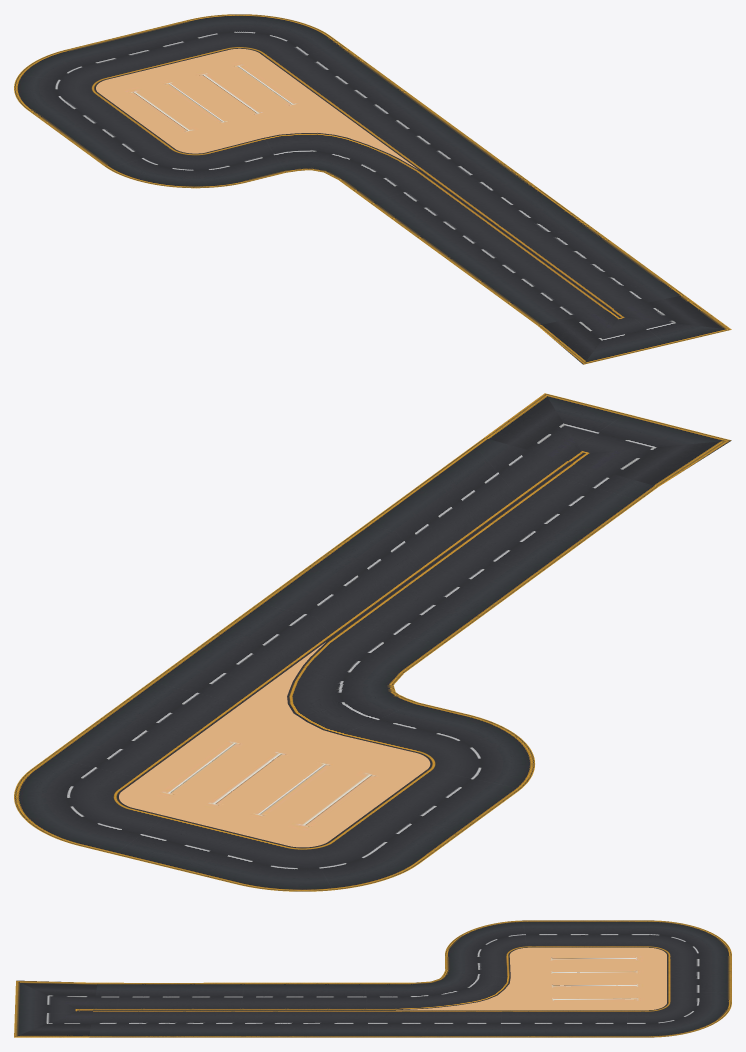
File: praking_area_level_new (1).FBX
3 renders of one model, top to bottom at view 1: azimuth 30°, elevation 25°; view 2: azimuth 150°, elevation 25°; view 3: azimuth 270°, elevation 25°, orthographic. The views are drawn at different scales.
Visible parts, largest first — view 1: full_road, parking, half_road; view 2: full_road, parking, half_road; view 3: full_road, parking, half_road.
Part boxes in pixels (x1=…): full_road: x1=14, y1=14, x2=731, y2=364; parking: x1=96, y1=48, x2=418, y2=169; half_road: x1=19, y1=14, x2=700, y2=312; full_road: x1=14, y1=393, x2=731, y2=891; parking: x1=119, y1=642, x2=430, y2=847; half_road: x1=19, y1=430, x2=525, y2=891; full_road: x1=14, y1=920, x2=731, y2=1037; parking: x1=396, y1=947, x2=666, y2=1010; half_road: x1=68, y1=920, x2=714, y2=1037.
Size of the model in its own units: 847 by 0.000469 by 2195.
